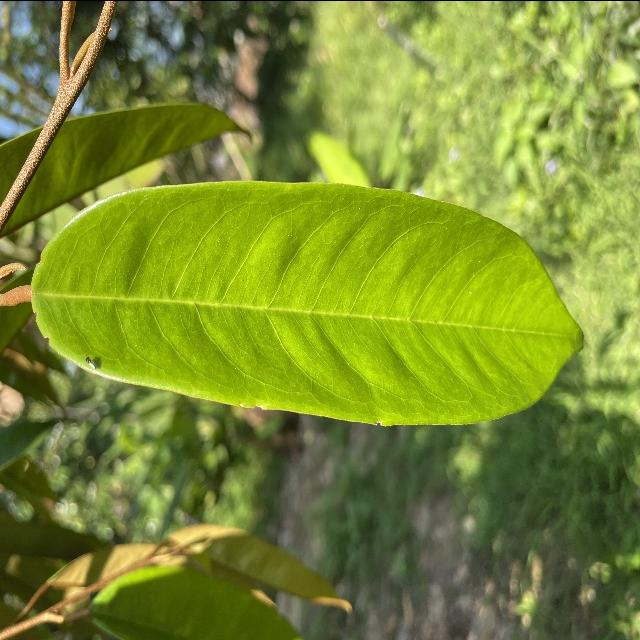No Disease: (21, 167, 597, 446)
